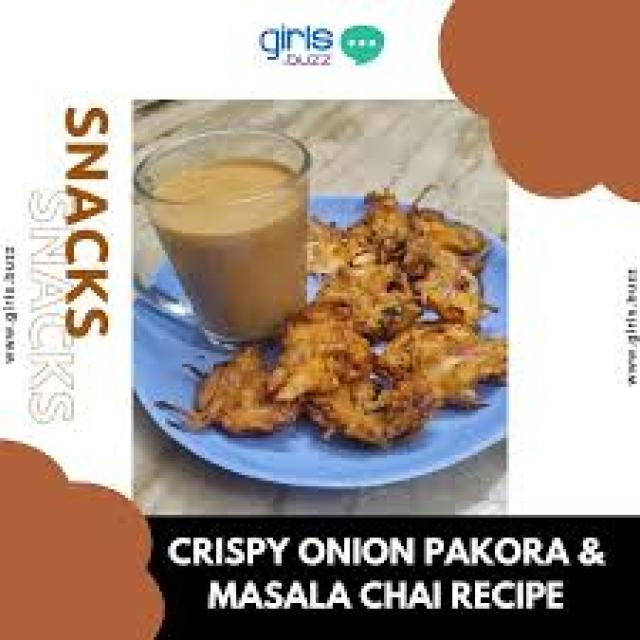BAJI: (200, 189, 517, 453)
